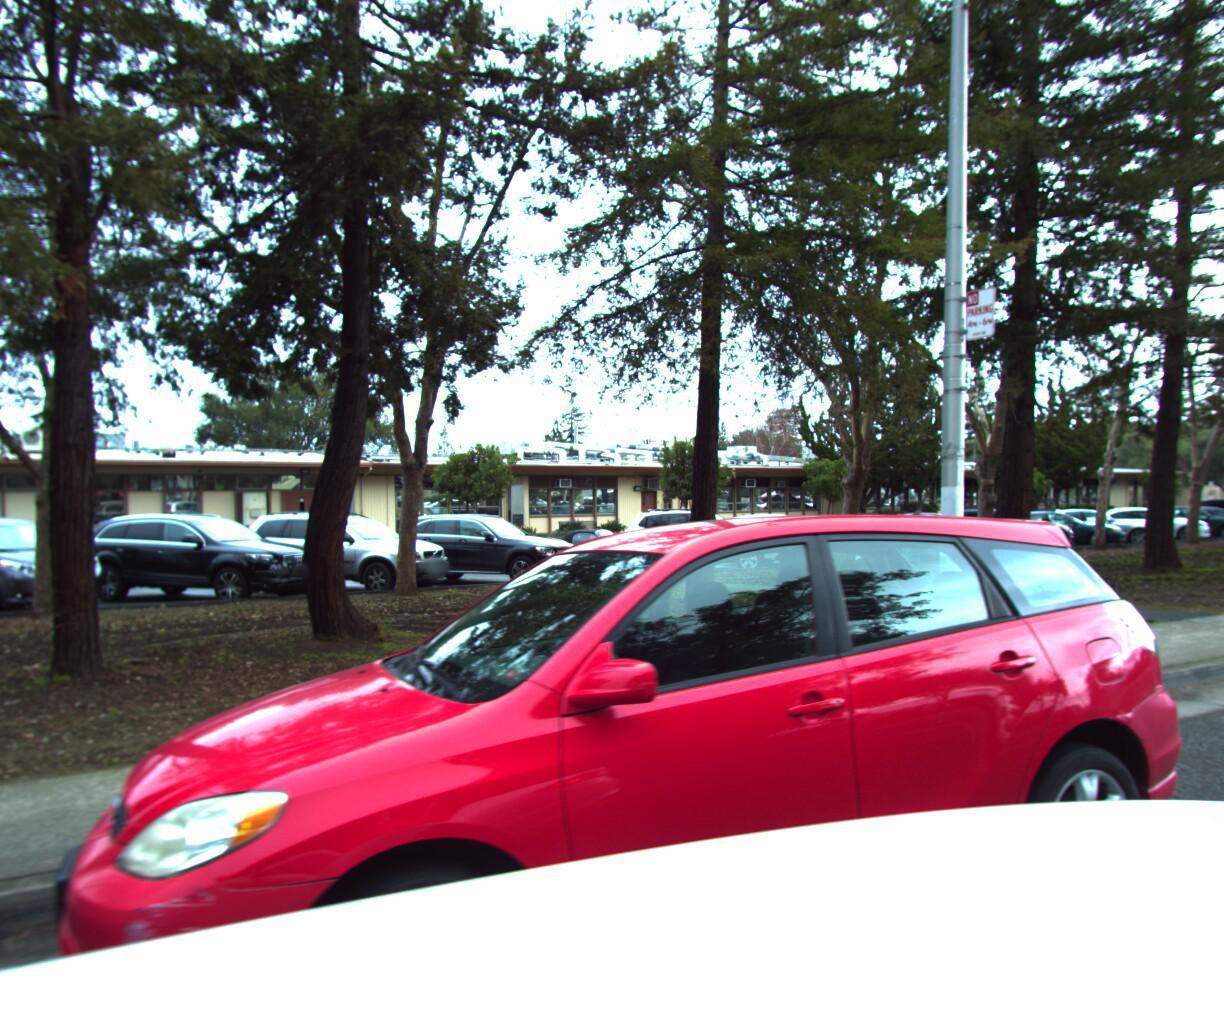car: (0, 500, 1224, 1024)
